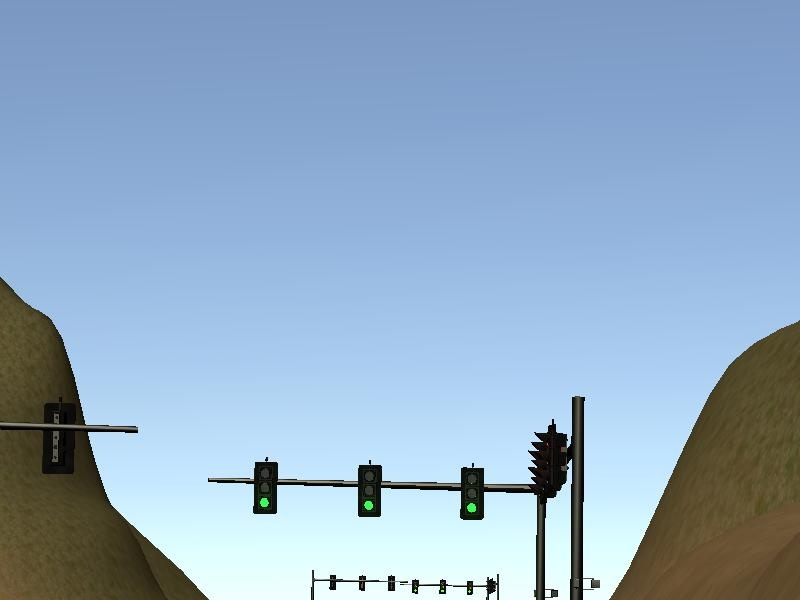GREEN: (253, 459, 276, 513), (460, 467, 483, 519), (358, 463, 380, 515)
